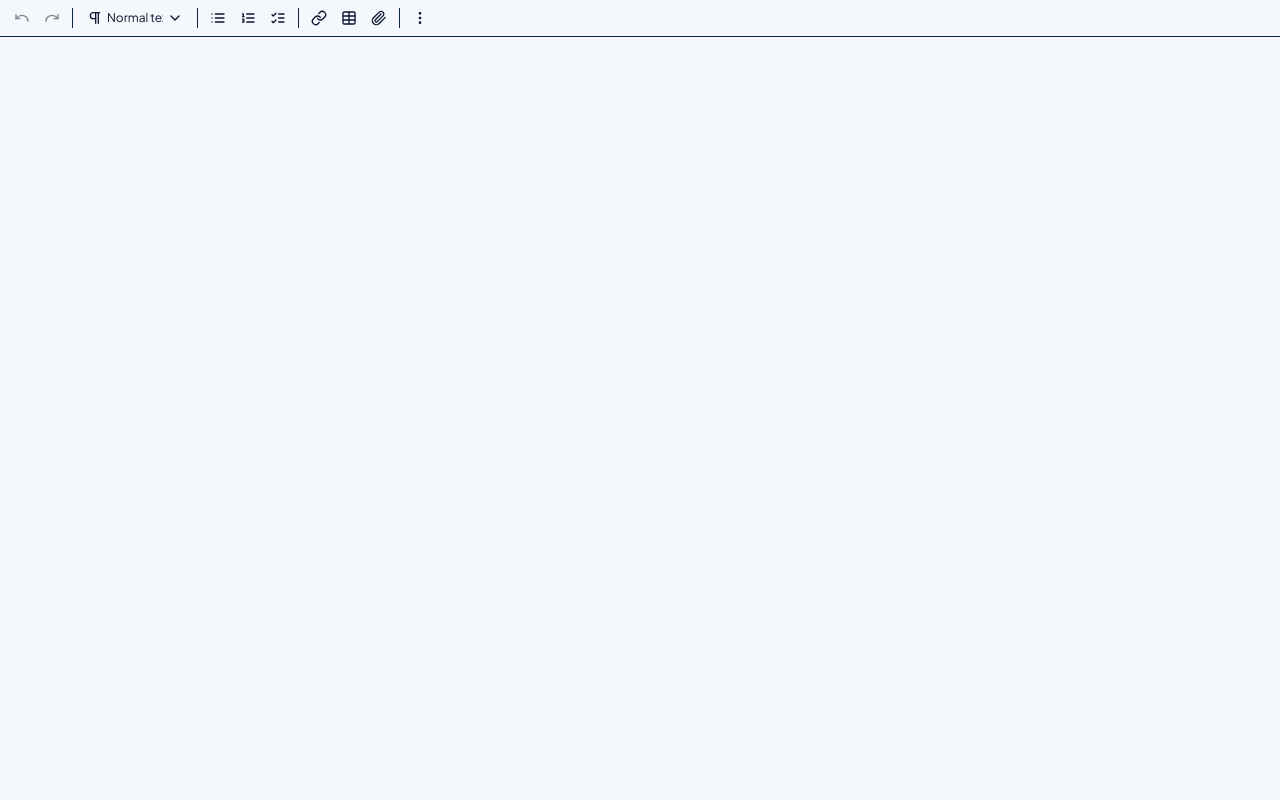
EditorToolbar (Priority+ layout) › collapses low-priority groups into the overflow popover when narrow, keeping lists inline
Check: the button titled "Bullet list" is shown, box [204, 4, 232, 32]
Check: the button titled "Checklist" is shown, box [264, 4, 292, 32]
# ...and reachable through the overflow popover.
Click the button titled "More formatting": (420, 18) [406, 4, 434, 32]
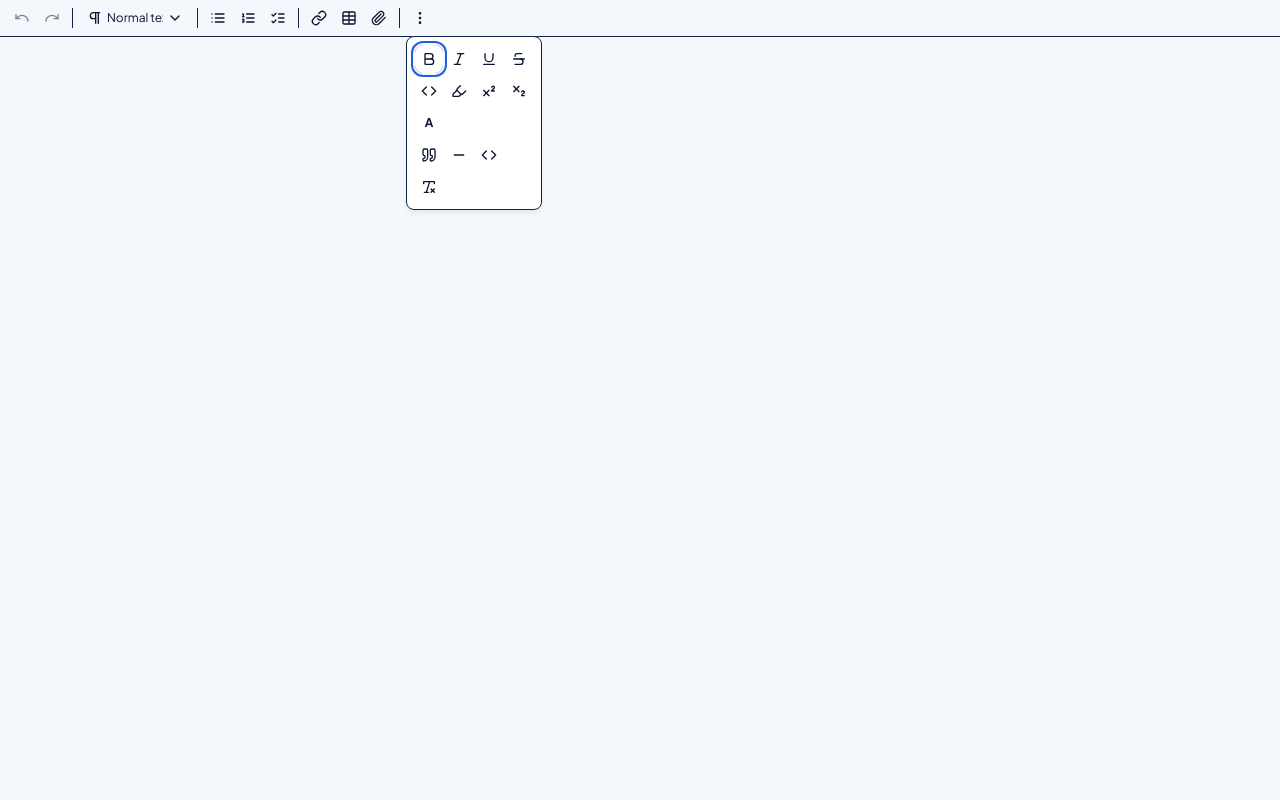
Check: the button titled "Quote" is shown, box [415, 141, 443, 169]
Check: the button titled "Bold (Ctrl+B)" is shown, box [415, 45, 443, 73]
Check: the button titled "Clear formatting" is shown, box [415, 173, 443, 201]
